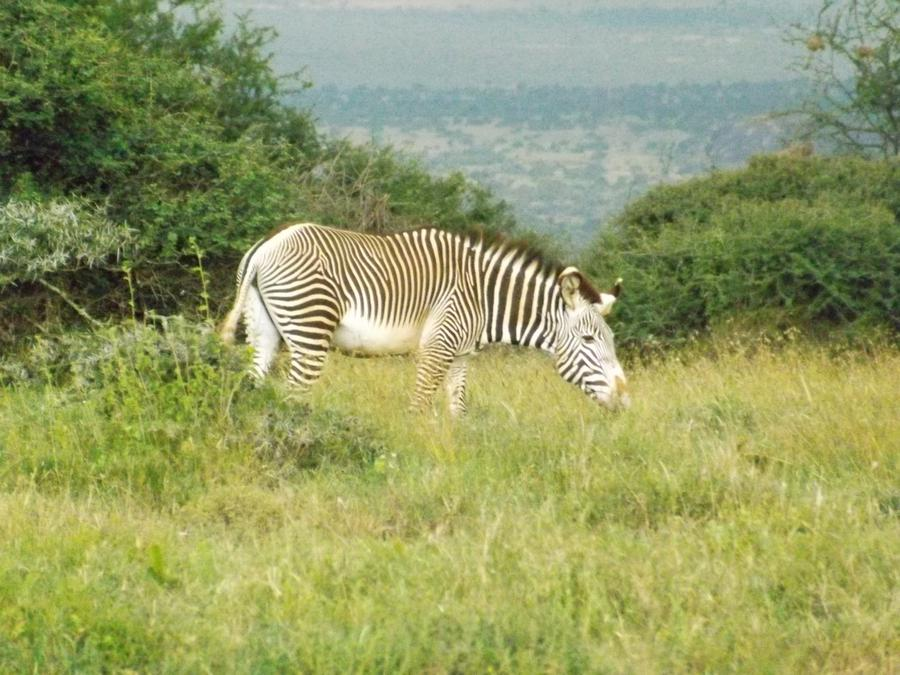zebra_grevys: (251, 225, 471, 365)
